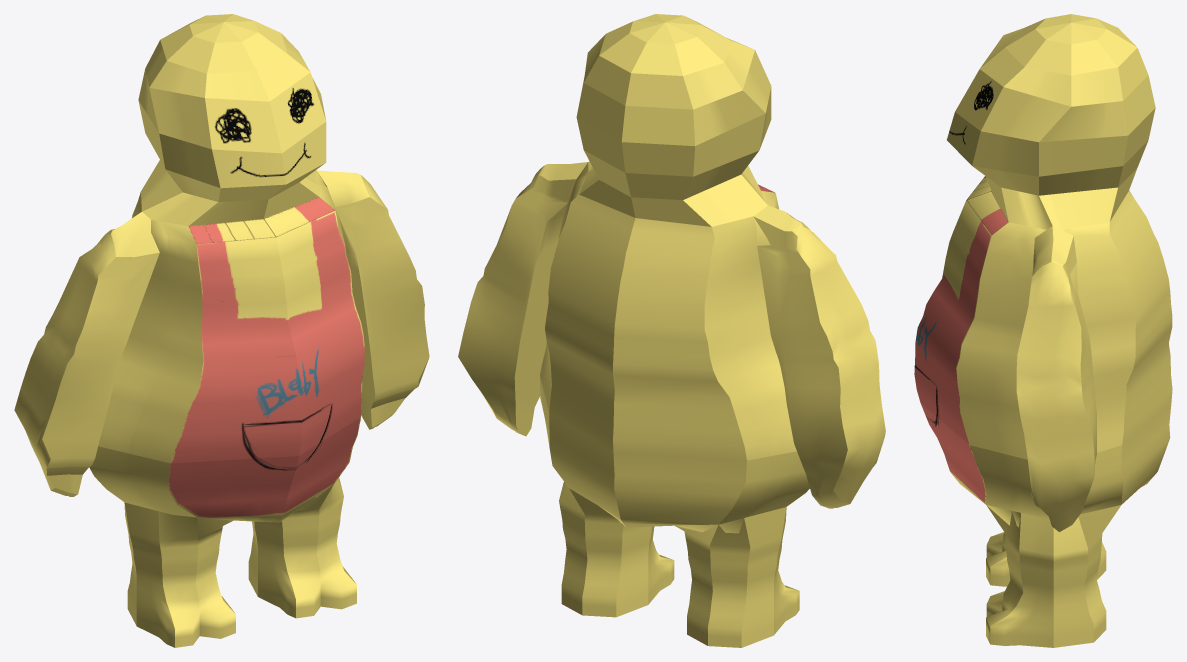
File: Blobby_Colored.fbx
The picture shows the model from 3 angles, left to right: view 1: azimuth 30°, elevation 25°; view 2: azimuth 150°, elevation 25°; view 3: azimuth 270°, elevation 25°; orthographic projection. The views are drawn at different scales.
Parts seen in each view (by area): view 1: RightArm; view 2: RightArm; view 3: RightArm.
Boxes of the visible parts, x1,y1,x2,y2 form: RightArm: (14,14,429,647); RightArm: (458,14,885,647); RightArm: (914,14,1172,647).
Bounding box in the file's own units: 626 × 889 × 361.
